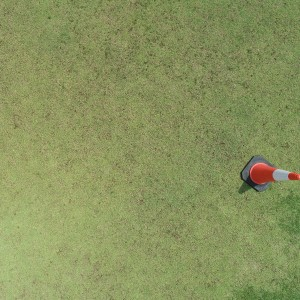traffic cone: (240, 155, 300, 195)
